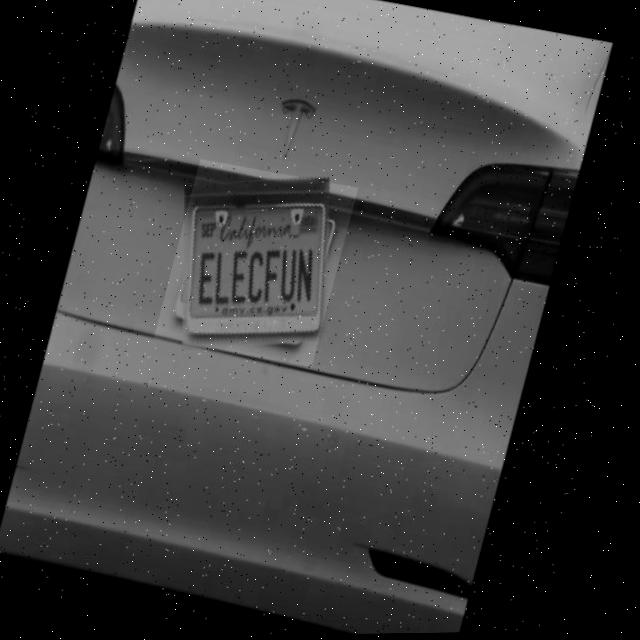LicensePlate: (157, 158, 362, 369)
